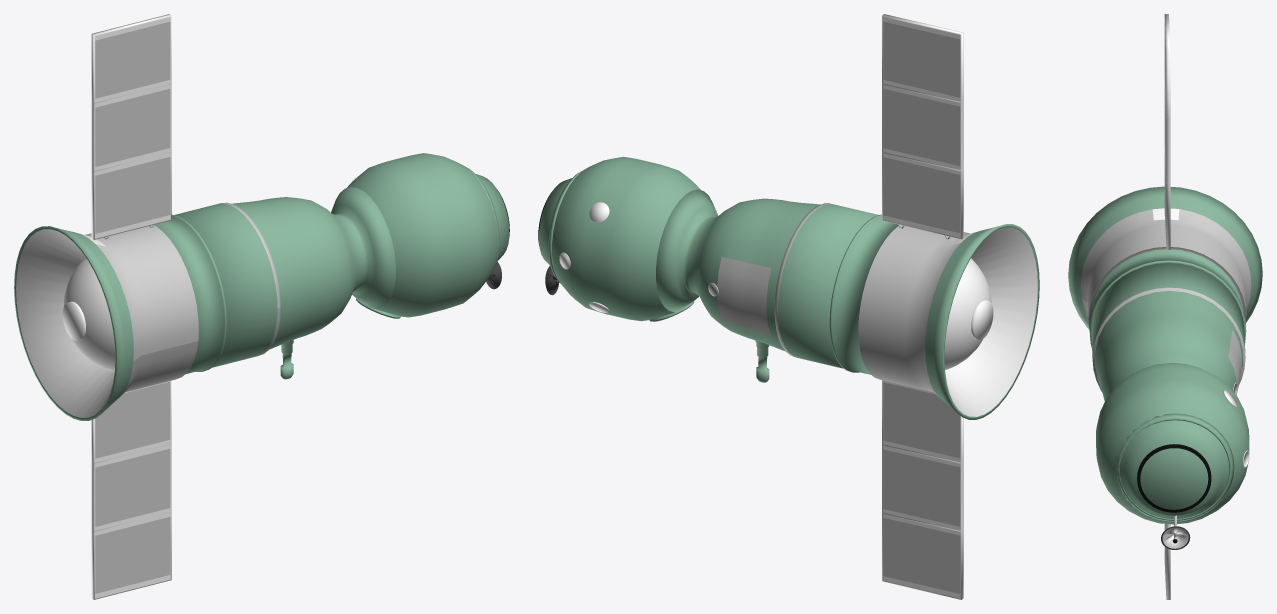
File: Soyuz_lowpoly.obj
The picture shows the model from 3 angles, left to right: view 1: azimuth 30°, elevation 25°; view 2: azimuth 150°, elevation 25°; view 3: azimuth 270°, elevation 25°; orthographic projection. The views are drawn at different scales.
Visible parts, largest first — view 1: polySurfac; view 2: polySurfac; view 3: polySurfac.
Part boxes in pixels (bbox=[...]): polySurfac: bbox=[14, 14, 509, 599]; polySurfac: bbox=[538, 14, 1039, 599]; polySurfac: bbox=[1068, 14, 1262, 599].
Bounding box in the file's own units: 7.84 × 9.63 × 3.1.
